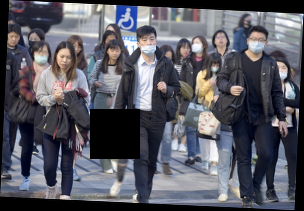mask_weared_incorrect: (138, 35, 159, 56), (33, 47, 50, 67), (275, 64, 289, 81)
with_mask: (248, 35, 266, 54), (190, 41, 205, 56), (28, 35, 42, 51), (210, 61, 222, 74)
without_mask: (56, 51, 73, 70), (107, 46, 121, 61), (215, 34, 230, 48), (7, 34, 21, 47), (180, 45, 191, 58), (72, 43, 83, 56)
